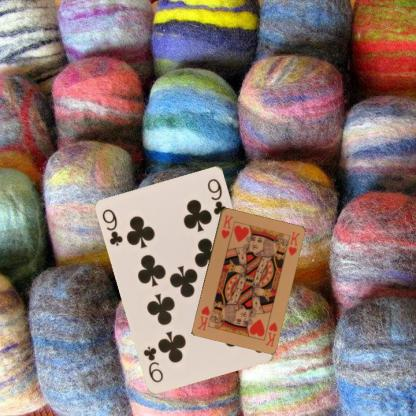9c: (100, 206, 125, 248)
Kh: (218, 212, 235, 240), (262, 319, 278, 348)
